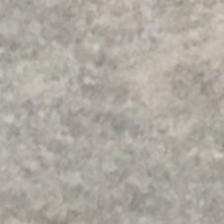Non_Crack: (17, 28, 178, 173)
